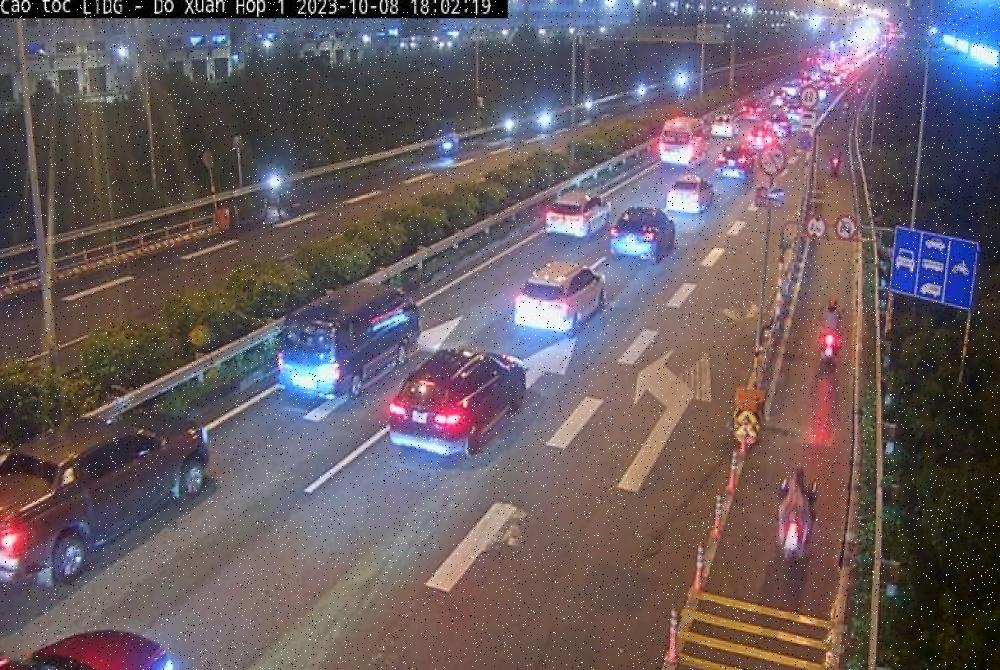car: (0, 405, 212, 597), (381, 342, 543, 481), (258, 270, 417, 410), (502, 252, 612, 357), (0, 618, 178, 670), (591, 194, 680, 285), (530, 177, 612, 251), (658, 168, 721, 234)
